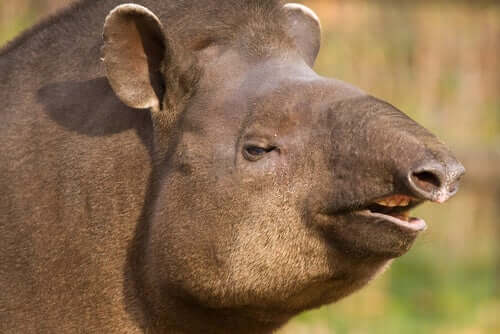Anta: (14, 2, 471, 320)
